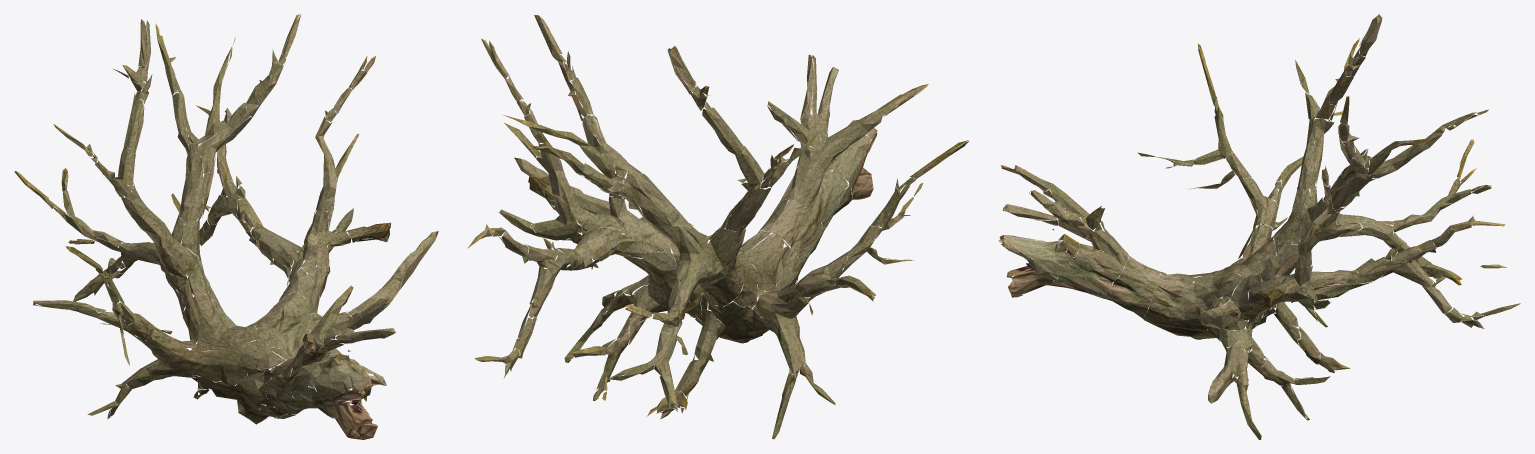
Rendered from branch_3_compressed.glb.
3 views of the same model, side by side, from view 1: azimuth 30°, elevation 25°; view 2: azimuth 150°, elevation 25°; view 3: azimuth 270°, elevation 25° (orthographic). The views are drawn at different scales.
Parts seen in each view (by area): view 1: tripo_node_10dadbba-26bf-4348-8ea5-47fd02934b42; view 2: tripo_node_10dadbba-26bf-4348-8ea5-47fd02934b42; view 3: tripo_node_10dadbba-26bf-4348-8ea5-47fd02934b42.
Boxes of the visible parts, left/top/right/bottom form: tripo_node_10dadbba-26bf-4348-8ea5-47fd02934b42: left=14, top=14, right=438, bottom=439; tripo_node_10dadbba-26bf-4348-8ea5-47fd02934b42: left=468, top=15, right=968, bottom=439; tripo_node_10dadbba-26bf-4348-8ea5-47fd02934b42: left=998, top=14, right=1520, bottom=439.
Size of the model in its own units: 0.8148 by 0.7488 by 0.9976.
Materials: 1 (1 with a texture image).
